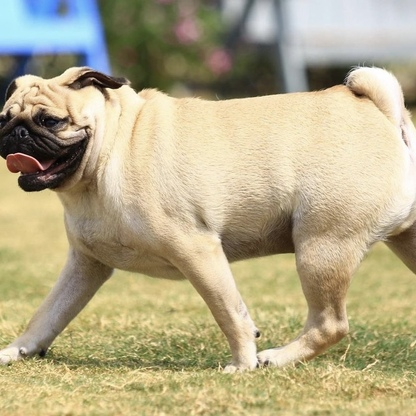Pug: (1, 52, 414, 377)
